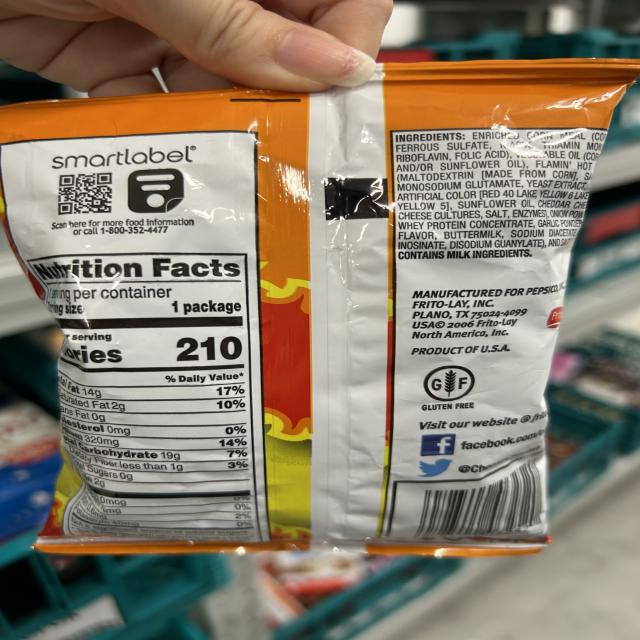object_name: (27, 108, 542, 540)
